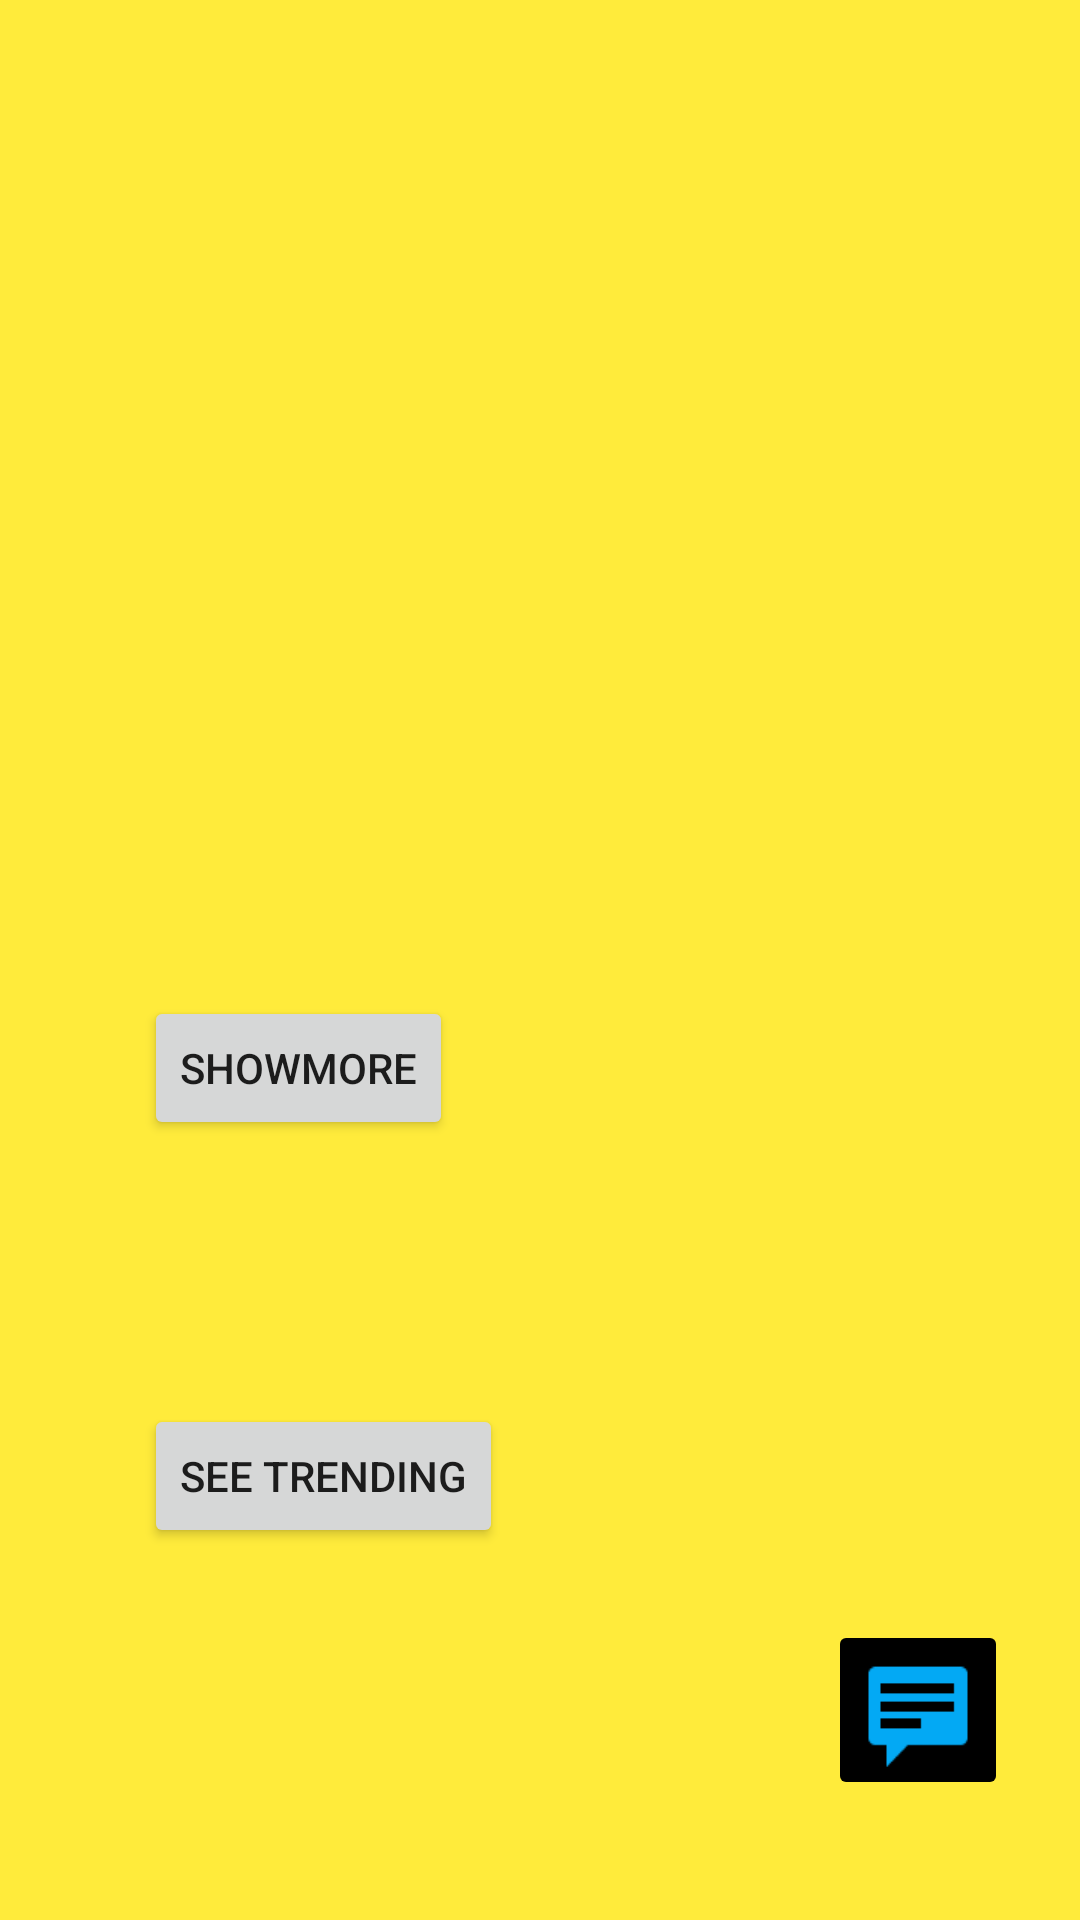

Icon bounding boxes for this 1080 x 1920 phone screenshot, format (x1, y1, x2, y2):
chatbot: (840, 1638, 996, 1782)
